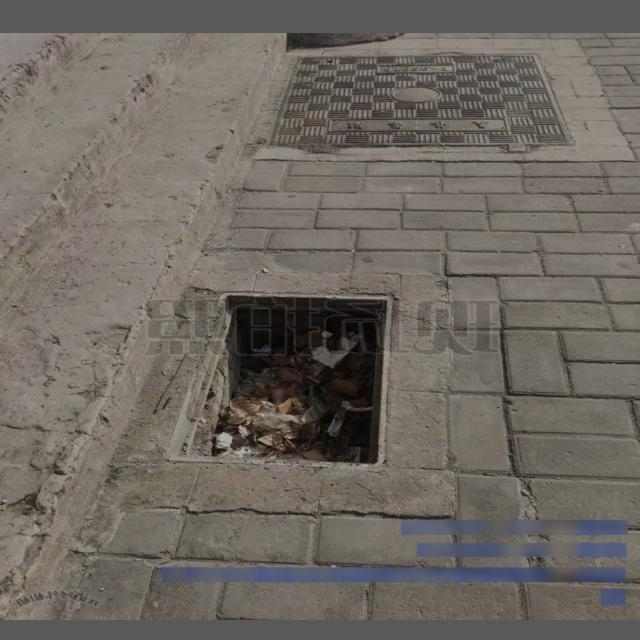good: (265, 51, 577, 155)
lose: (162, 288, 395, 467)
